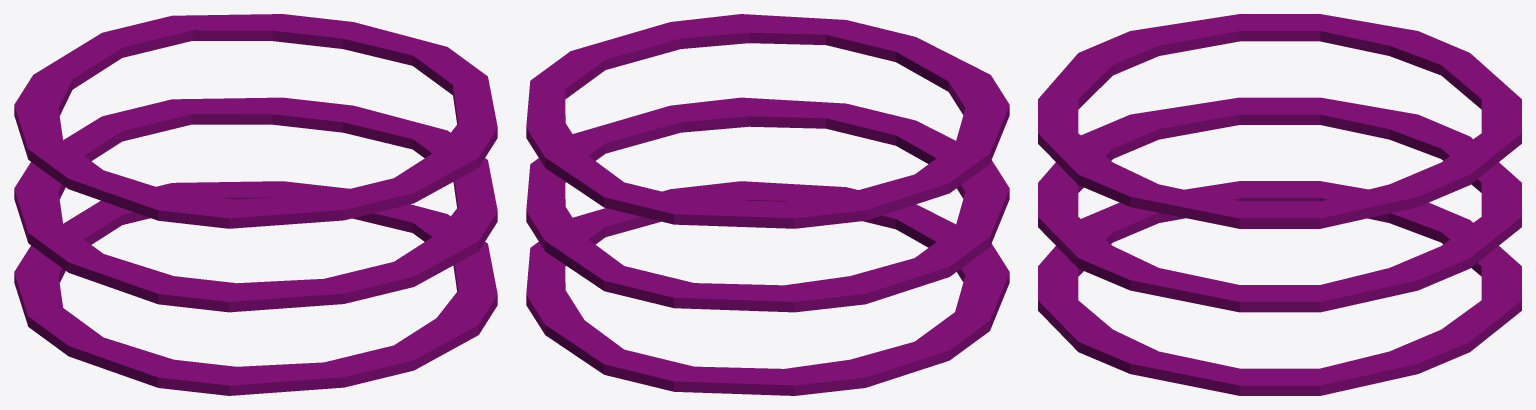
The model's file is gfx_110.obj.
3 views of the same model, side by side, from view 1: azimuth 30°, elevation 25°; view 2: azimuth 150°, elevation 25°; view 3: azimuth 270°, elevation 25° (orthographic).
Bounding box in the file's own units: 0.6562 × 0.2656 × 0.6562.
